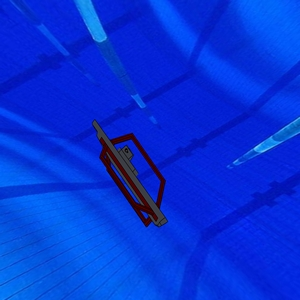submarine: (76, 112, 178, 234)
